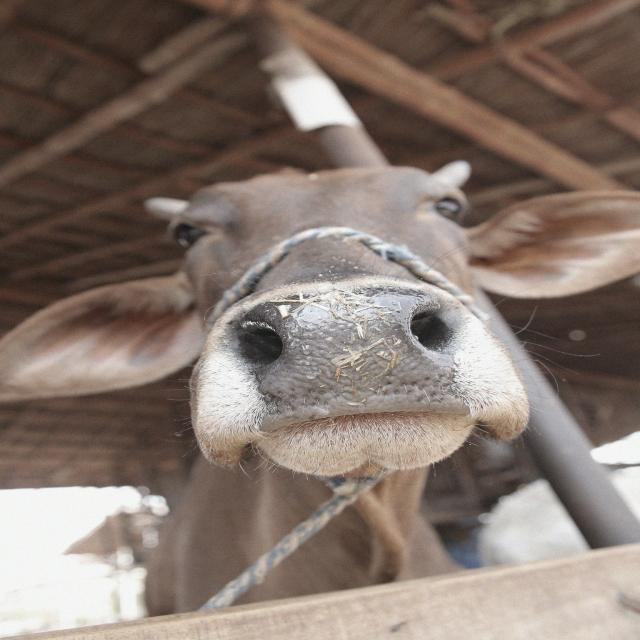muzzles: (232, 287, 486, 429)
